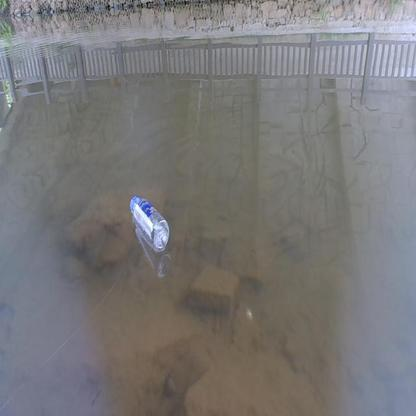plastic bottle: (130, 195, 169, 251)
